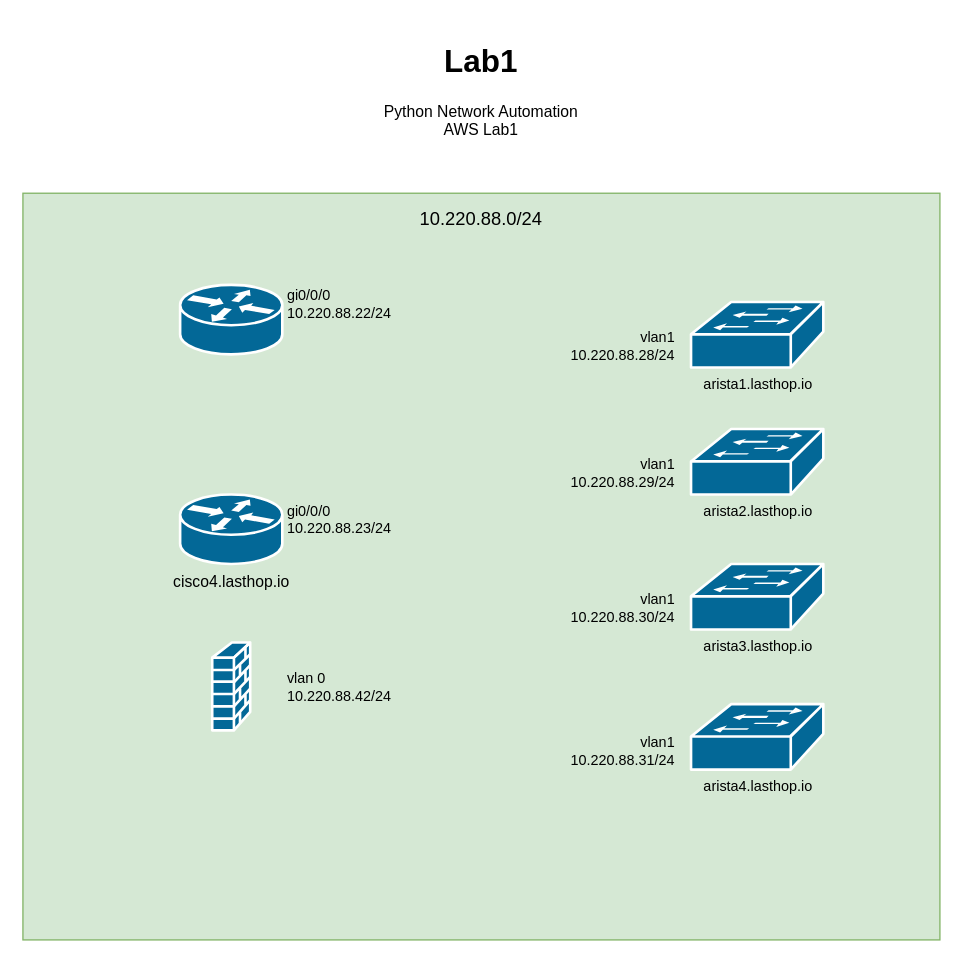
This 963x963 diagram has some shape labels left out. Each missing label, with the box of its shape:
cisco3.lasthop.io: (178, 283, 283, 355)
srx2.lasthop.io: (210, 641, 251, 731)
